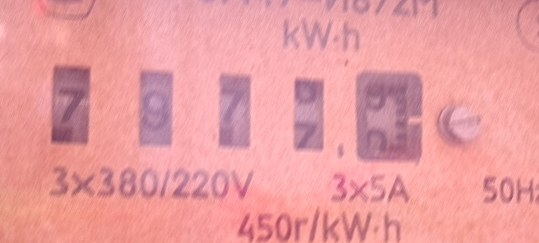0: (362, 124, 386, 154)
7: (51, 82, 86, 128), (290, 112, 320, 154), (217, 85, 246, 126)
9: (138, 86, 169, 133), (361, 81, 391, 113)
screen: (35, 48, 438, 180)
